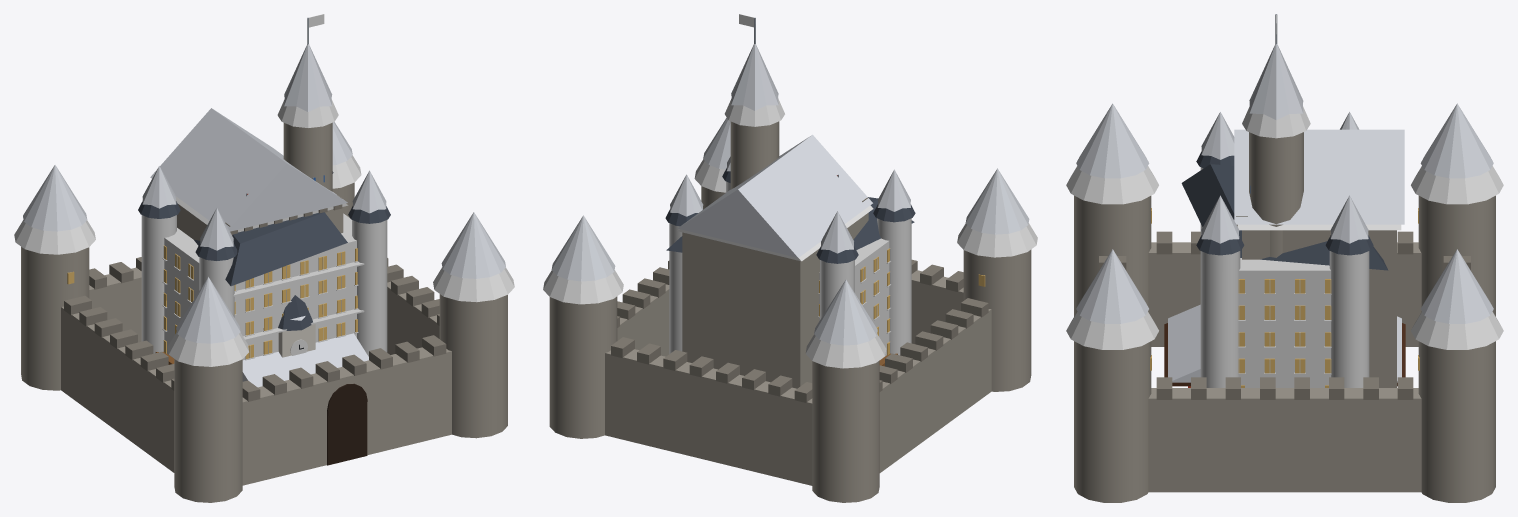
File: models.glb
3 renders of one model, left to right at view 1: azimuth 30°, elevation 25°; view 2: azimuth 150°, elevation 25°; view 3: azimuth 270°, elevation 25°, orthographic. The views are drawn at different scales.
Parts seen in each view (by area): view 1: castle, hotel, lodge, church; view 2: castle, hotel; view 3: castle, hotel, lodge.
Part boxes in pixels (<box>): castle: <box>14,14,514,502</box>; hotel: <box>138,166,390,360</box>; lodge: <box>155,333,368,387</box>; church: <box>278,295,315,357</box>; castle: <box>543,14,1037,502</box>; hotel: <box>665,156,915,356</box>; castle: <box>1066,14,1503,502</box>; hotel: <box>1181,112,1388,387</box>; lodge: <box>1164,304,1405,387</box>.
Size of the model in its own units: 50.53 by 58.75 by 50.81.
